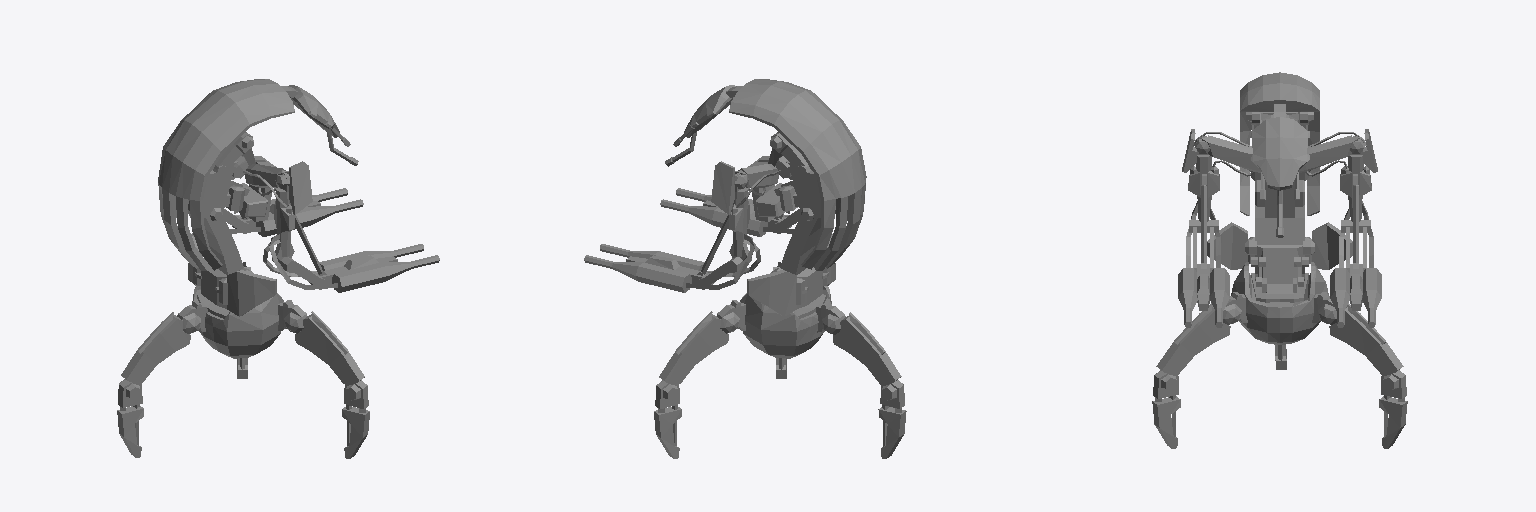
File: Cis_droideka.obj
3 renders of one model, left to right at view 1: azimuth 30°, elevation 25°; view 2: azimuth 150°, elevation 25°; view 3: azimuth 270°, elevation 25°, orthographic.
Visible parts, largest first — view 1: droideka; view 2: droideka; view 3: droideka.
Boxes of the visible parts, box(x1,y1,x2,y2) form: droideka: box(117, 79, 439, 458); droideka: box(584, 79, 906, 458); droideka: box(1152, 72, 1407, 448).
Bounding box in the file's own units: 7.83 × 9.4 × 6.36.